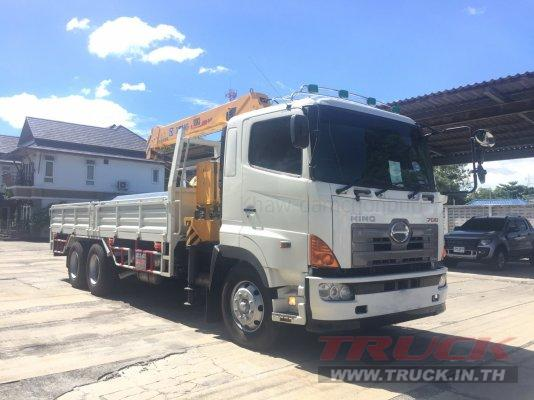truck: (47, 91, 448, 327)
